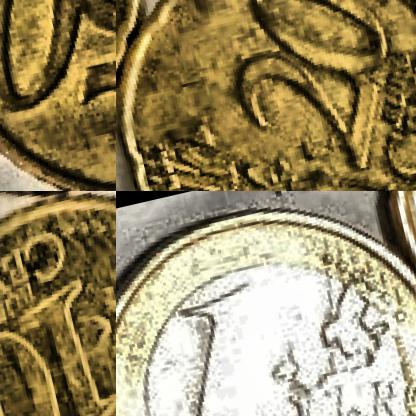coin: (116, 191, 415, 415), (116, 0, 415, 190), (0, 191, 115, 415), (0, 0, 115, 190)
